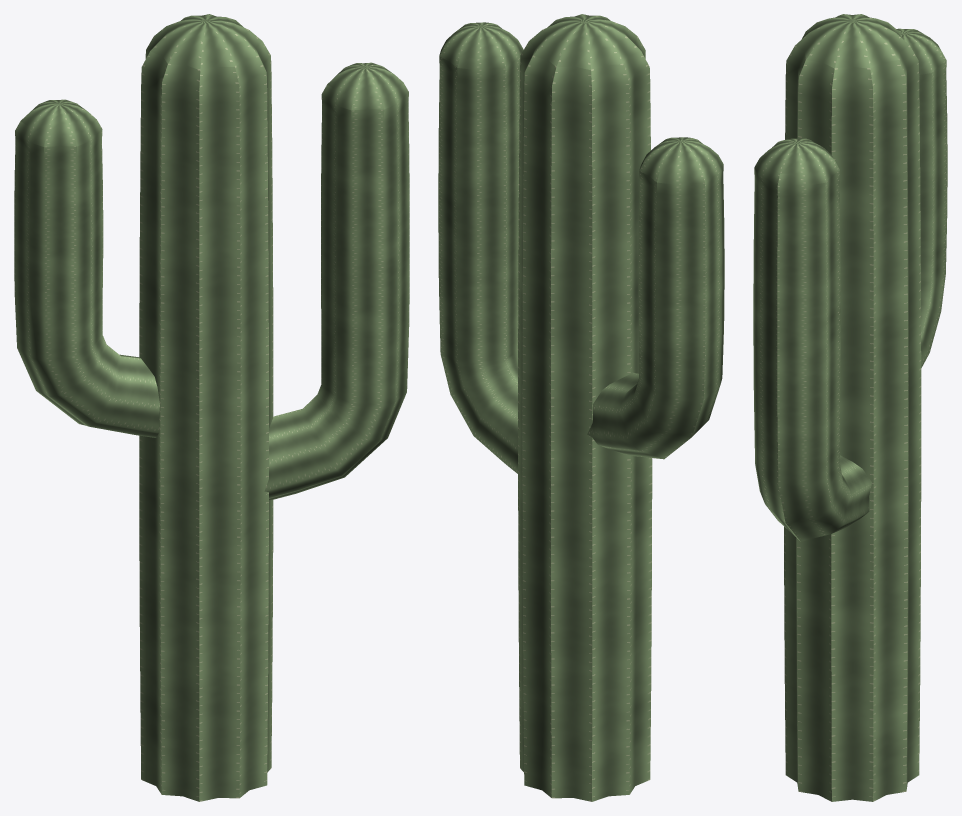
Rendered from SM_Desert_Saguaro_A.glb.
The picture shows the model from 3 angles, left to right: view 1: azimuth 30°, elevation 25°; view 2: azimuth 150°, elevation 25°; view 3: azimuth 270°, elevation 25°; orthographic projection.
Parts seen in each view (by area): view 1: SM_Desert_Saguaro_A; view 2: SM_Desert_Saguaro_A; view 3: SM_Desert_Saguaro_A.
Boxes of the visible parts, box(x1,y1,x2,y2) form: SM_Desert_Saguaro_A: box(14, 14, 409, 801); SM_Desert_Saguaro_A: box(438, 14, 724, 801); SM_Desert_Saguaro_A: box(753, 14, 947, 801).
Size of the model in its own units: 1.61 by 3.6 by 0.8396.
1 material, 1 textured.
